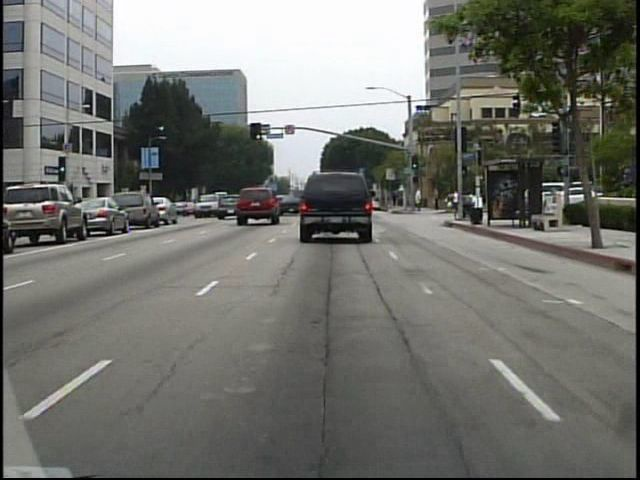person: (412, 184, 426, 215), (430, 181, 443, 213), (392, 187, 400, 209)
